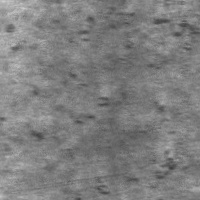rolled-in_scale: (20, 82, 181, 193), (47, 11, 200, 50), (0, 114, 75, 159)
